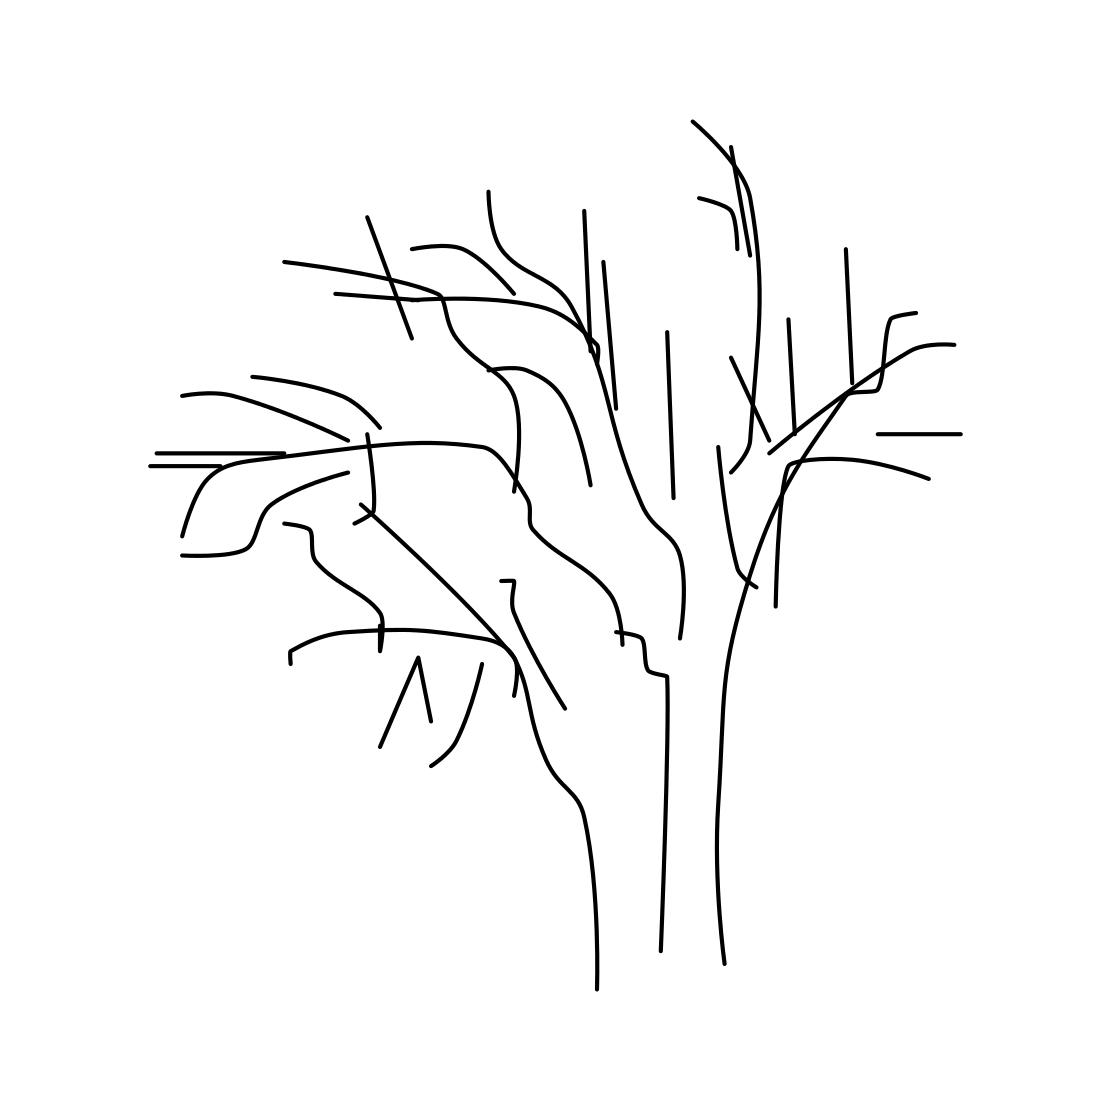Tree: (144, 121, 971, 992)
